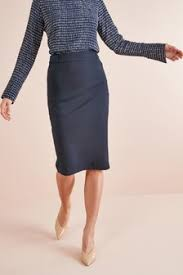F_tailored skirt: (42, 45, 119, 177)
